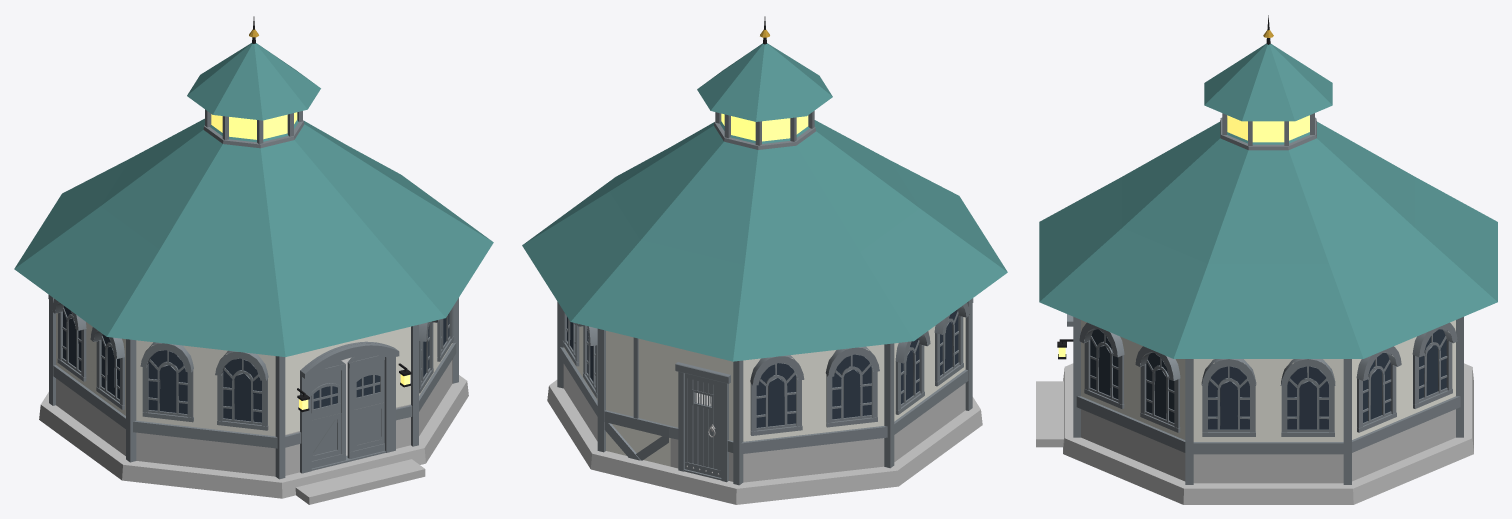
File: music_hall.gltf
The picture shows the model from 3 angles, left to right: view 1: azimuth 30°, elevation 25°; view 2: azimuth 150°, elevation 25°; view 3: azimuth 270°, elevation 25°; orthographic projection. The views are drawn at different scales.
Visible parts, largest first — view 1: Roof.044, Plinth.001, CupolaRoof.055, Wall_Plaster_Window_Wide_Round.033, Wall_Plaster_Window_Wide_Round.031, Wall_Plaster_Door_Round.003, Window_Wide_Round1.032, Door_1_Round.006, Window_Wide_Round1.034, DoorFrame_Round_WoodDark.004, Door_1_Round.005, Step.002 (+14 smaller); view 2: Roof.044, Plinth.001, Wall_Plaster_Straight.019, CupolaRoof.055, Wall_Plaster_Window_Wide_Round.025, Wall_Plaster_Window_Wide_Round.023, Window_Wide_Round1.024, Window_Wide_Round1.026, Door_8_Flat.022, Wall_Plaster_Door_Flat.020, Wall_Plaster_Window_Wide_Round.029, DoorFrame_Flat_WoodDark.021 (+13 smaller); view 3: Roof.044, Plinth.001, CupolaRoof.055, Wall_Plaster_Window_Wide_Round.013, Wall_Plaster_Window_Wide_Round.011, Window_Wide_Round1.014, Window_Wide_Round1.012, Wall_Plaster_Window_Wide_Round.009, Wall_Plaster_Window_Wide_Round.007, Wall_Plaster_Window_Wide_Round.017, Wall_Plaster_Window_Wide_Round.015, Window_Wide_Round1.010 (+10 smaller).
Boxes of the visible parts, box(x1,y1,x2,y2) form: Roof.044: box(14, 118, 493, 356); Plinth.001: box(39, 357, 468, 498); CupolaRoof.055: box(187, 43, 320, 120); Wall_Plaster_Window_Wide_Round.033: box(205, 348, 277, 476); Wall_Plaster_Window_Wide_Round.031: box(133, 340, 205, 468); Wall_Plaster_Door_Round.003: box(285, 326, 412, 475); Window_Wide_Round1.032: box(140, 342, 193, 422); Door_1_Round.006: box(347, 355, 384, 459); Window_Wide_Round1.034: box(215, 350, 268, 430); DoorFrame_Round_WoodDark.004: box(300, 341, 399, 473); Door_1_Round.005: box(311, 361, 345, 468); Step.002: box(295, 459, 425, 504); Roof.044: box(522, 120, 1007, 361); Plinth.001: box(547, 380, 982, 504); Wall_Plaster_Straight.019: box(604, 330, 670, 466); CupolaRoof.055: box(697, 43, 832, 121); Wall_Plaster_Window_Wide_Round.025: box(814, 344, 887, 474); Wall_Plaster_Window_Wide_Round.023: box(741, 352, 814, 482); Window_Wide_Round1.024: box(750, 355, 804, 435); Window_Wide_Round1.026: box(825, 346, 879, 427); Door_8_Flat.022: box(685, 373, 721, 477); Wall_Plaster_Door_Flat.020: box(669, 346, 733, 481); Wall_Plaster_Window_Wide_Round.029: box(928, 317, 968, 437); DoorFrame_Flat_WoodDark.021: box(675, 362, 730, 482); Roof.044: box(1039, 118, 1497, 358); Plinth.001: box(1063, 363, 1473, 504); CupolaRoof.055: box(1204, 43, 1332, 121); Wall_Plaster_Window_Wide_Round.013: box(1268, 359, 1343, 483); Wall_Plaster_Window_Wide_Round.011: box(1193, 359, 1268, 483); Window_Wide_Round1.014: box(1280, 359, 1335, 436); Window_Wide_Round1.012: box(1201, 359, 1256, 436); Wall_Plaster_Window_Wide_Round.009: box(1131, 342, 1185, 481); Wall_Plaster_Window_Wide_Round.007: box(1076, 320, 1133, 459); Wall_Plaster_Window_Wide_Round.017: box(1403, 320, 1460, 459); Wall_Plaster_Window_Wide_Round.015: box(1352, 342, 1405, 481); Window_Wide_Round1.010: box(1135, 346, 1180, 432).
Size of the model in its own units: 13.32 by 12.95 by 13.41.
